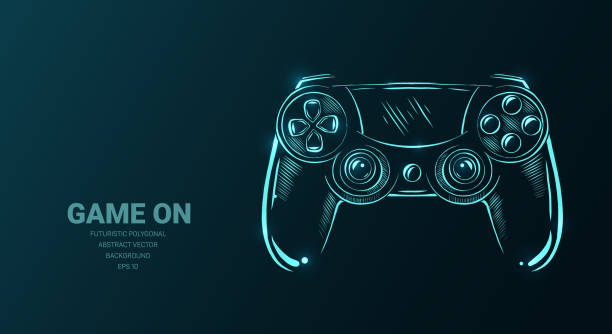controller: (259, 72, 565, 274)
